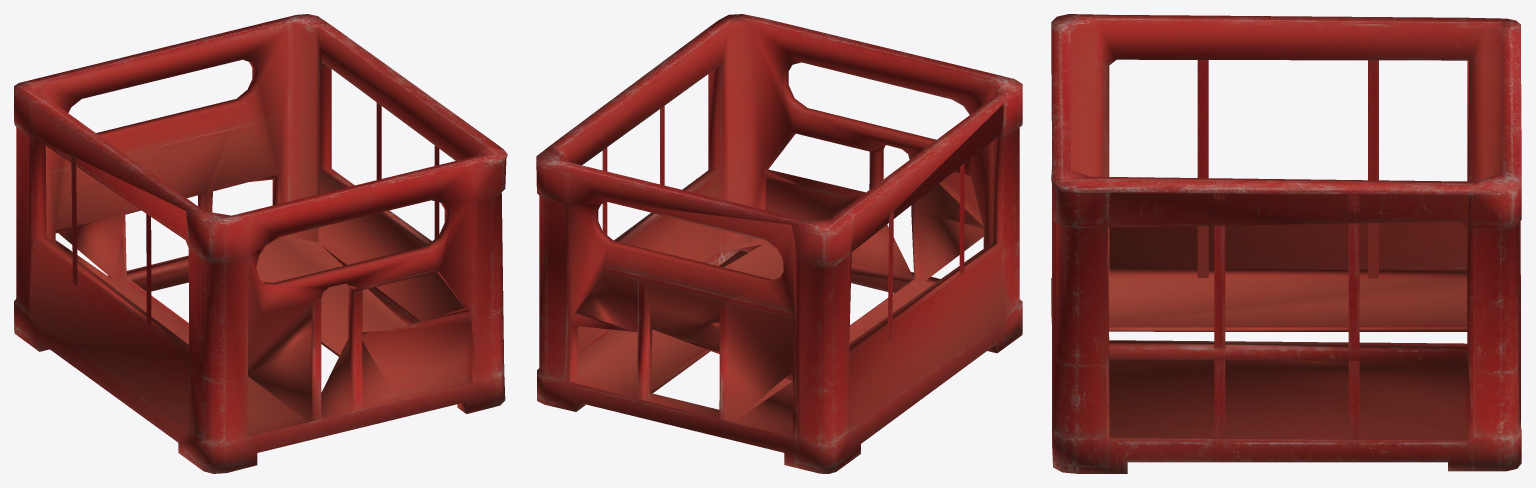
The model's file is bottle-crate.glb.
3 views of the same model, side by side, from view 1: azimuth 30°, elevation 25°; view 2: azimuth 150°, elevation 25°; view 3: azimuth 270°, elevation 25° (orthographic). The views are drawn at different scales.
Visible parts, largest first — view 1: tripo_node_cbdbccf1-b034-49a2-9744-9f8d558b2d9b; view 2: tripo_node_cbdbccf1-b034-49a2-9744-9f8d558b2d9b; view 3: tripo_node_cbdbccf1-b034-49a2-9744-9f8d558b2d9b.
Boxes of the visible parts, box(x1,y1,x2,y2) form: tripo_node_cbdbccf1-b034-49a2-9744-9f8d558b2d9b: box(14, 14, 507, 473); tripo_node_cbdbccf1-b034-49a2-9744-9f8d558b2d9b: box(536, 14, 1022, 473); tripo_node_cbdbccf1-b034-49a2-9744-9f8d558b2d9b: box(1051, 14, 1521, 473).
Size of the model in its own units: 0.8652 by 0.6777 by 0.998.
1 material, 1 textured.
